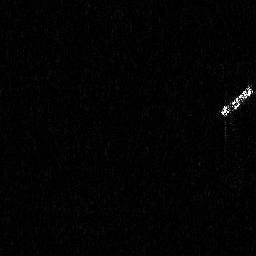ship: (217, 81, 255, 122)
